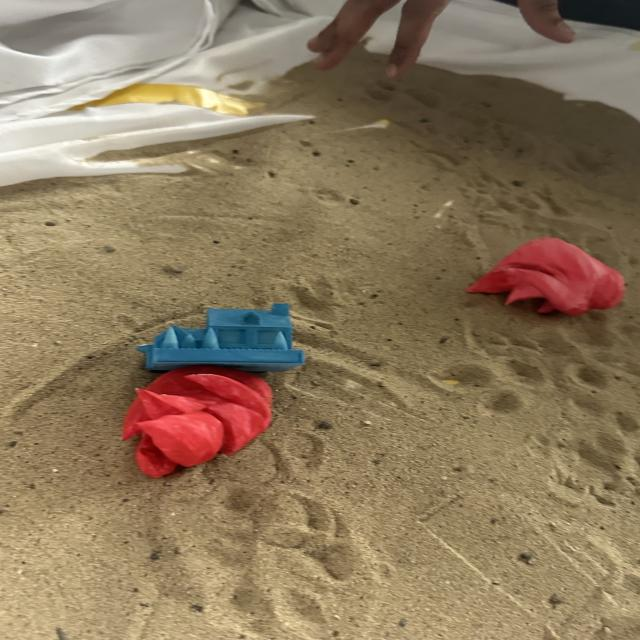fire: (119, 363, 275, 479), (472, 235, 626, 317)
house: (134, 300, 308, 374)
